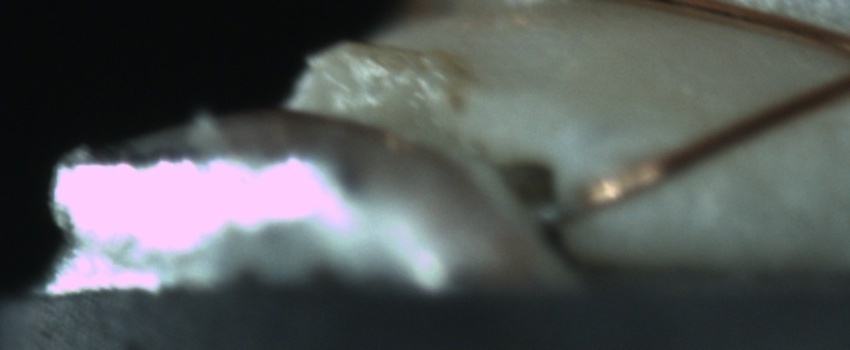TS: (534, 194, 573, 227)
